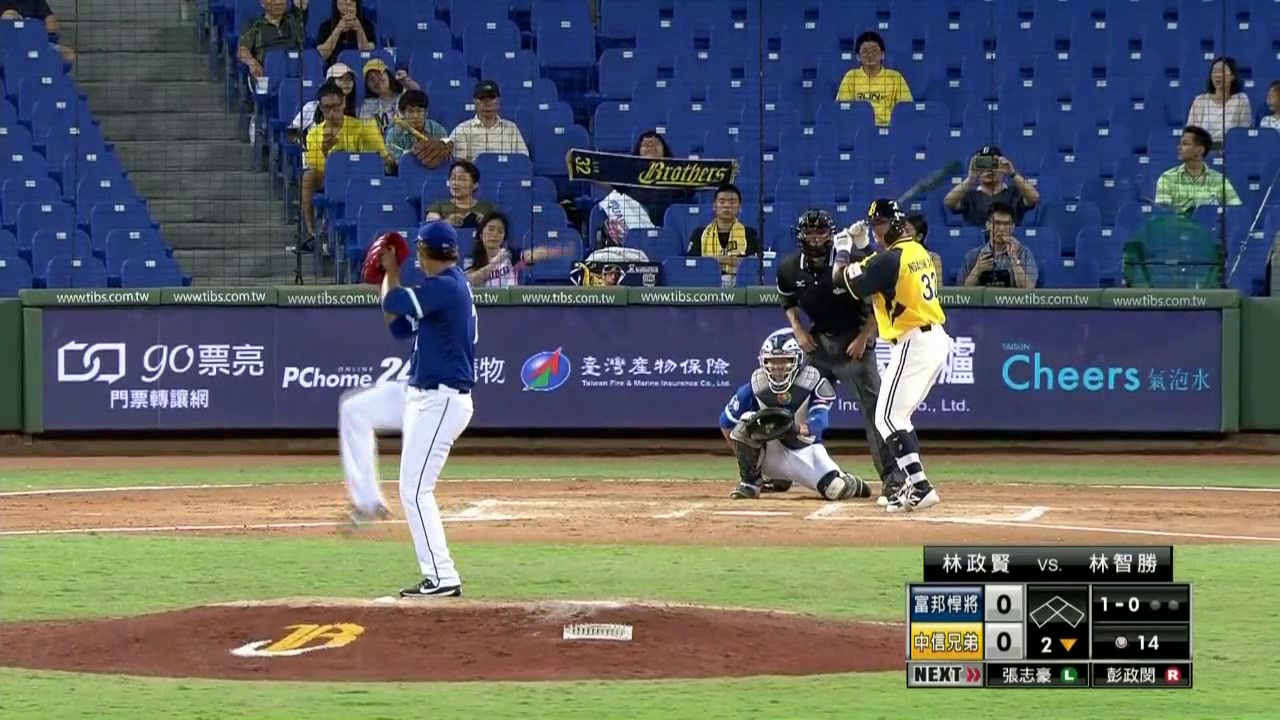base: (1026, 588, 1086, 630)
bat: (853, 157, 966, 235)
out: (1148, 591, 1183, 616)
score1: (987, 588, 1020, 619)
score2: (987, 625, 1020, 657)
session: (1026, 631, 1085, 658)
strikeball: (1094, 588, 1144, 618)
total: (1093, 628, 1187, 657)
